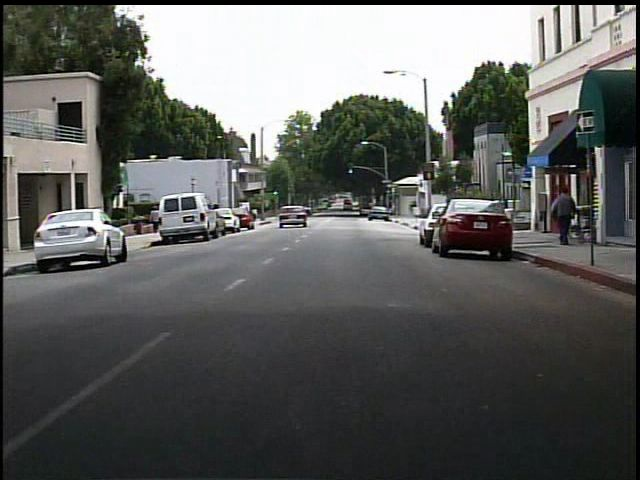person: (545, 184, 579, 249), (149, 204, 168, 237)
